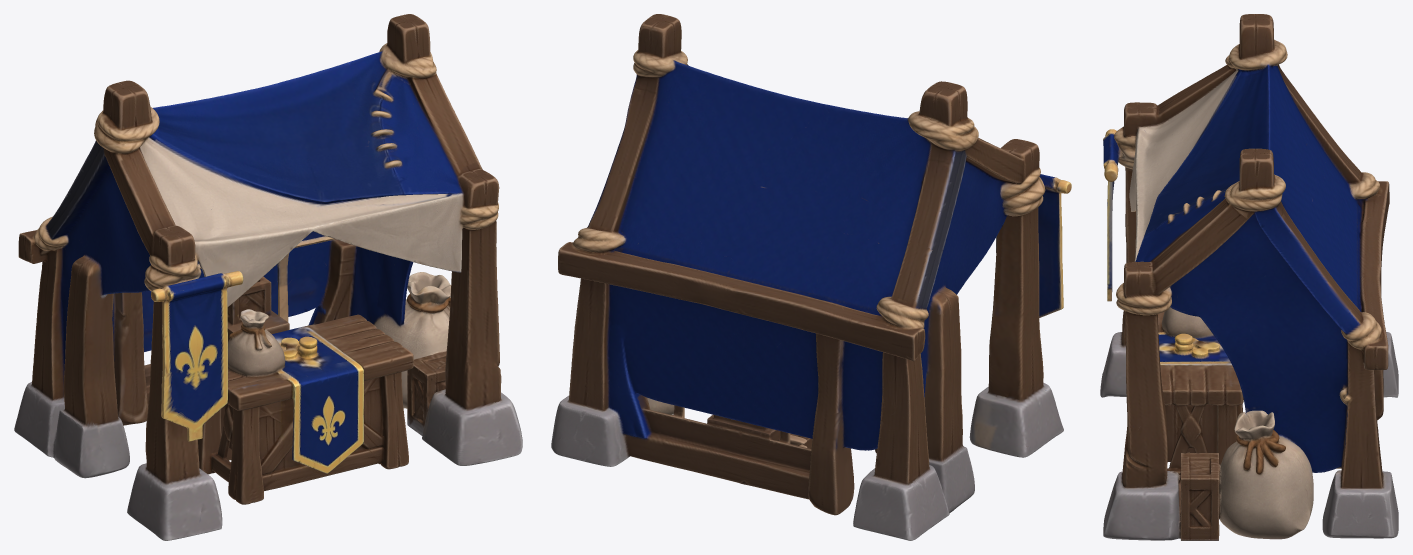
File: bank_1_2_3.glb
3 renders of one model, left to right at view 1: azimuth 30°, elevation 25°; view 2: azimuth 150°, elevation 25°; view 3: azimuth 270°, elevation 25°, orthographic. The views are drawn at different scales.
Bounding box in the file's own units: 1.86 × 1.79 × 1.29.
1 material, 1 textured.
